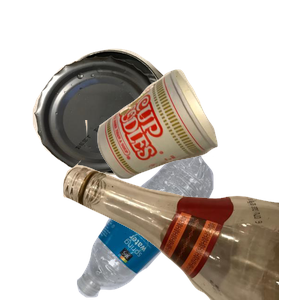glass: (60, 120, 300, 300)
metal: (30, 46, 205, 215)
plastic: (74, 156, 280, 300)
trash: (95, 67, 300, 238)
